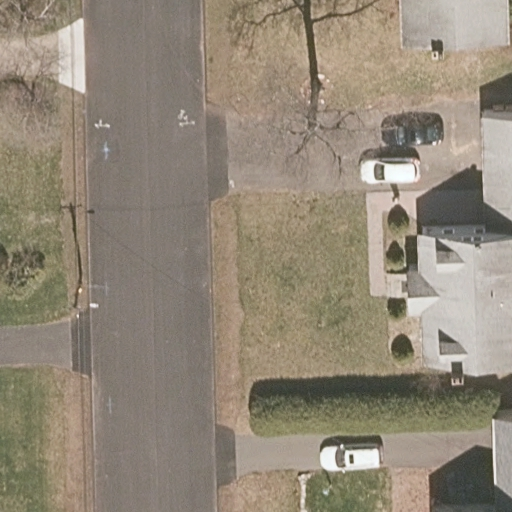DT: (73, 277, 108, 314)
